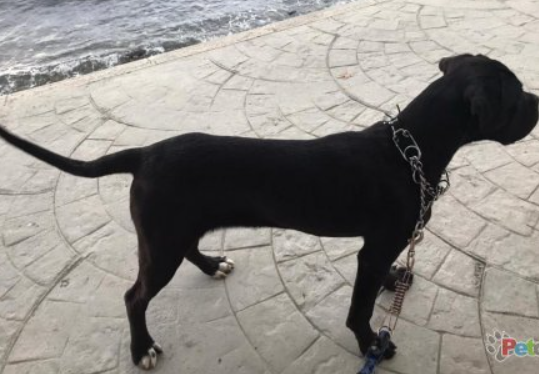dog: (0, 49, 539, 370)
